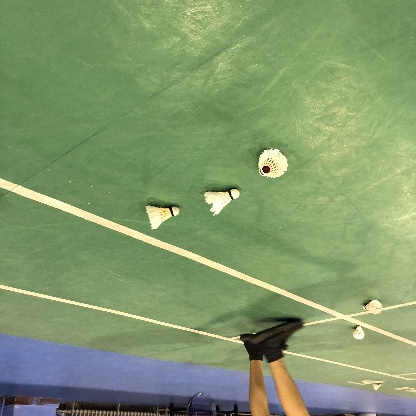ball_single: (204, 189, 240, 215), (258, 148, 288, 178), (145, 206, 180, 229), (363, 300, 382, 314), (353, 326, 365, 340), (373, 384, 382, 390)
